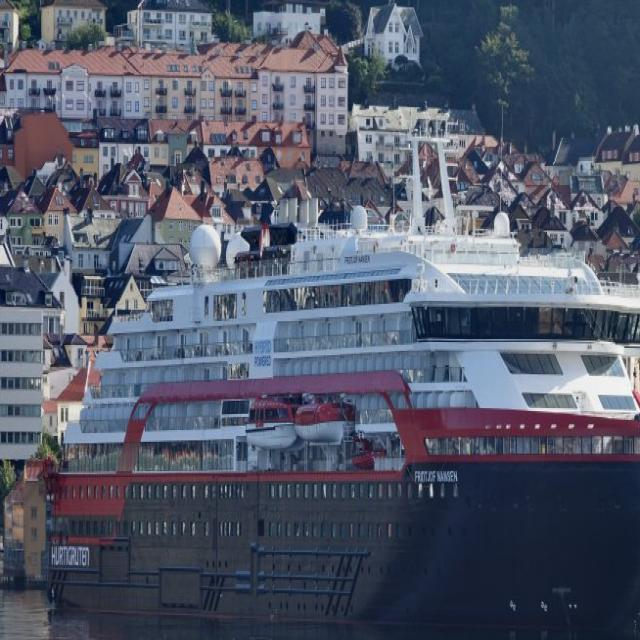cruises: (39, 133, 640, 640)
